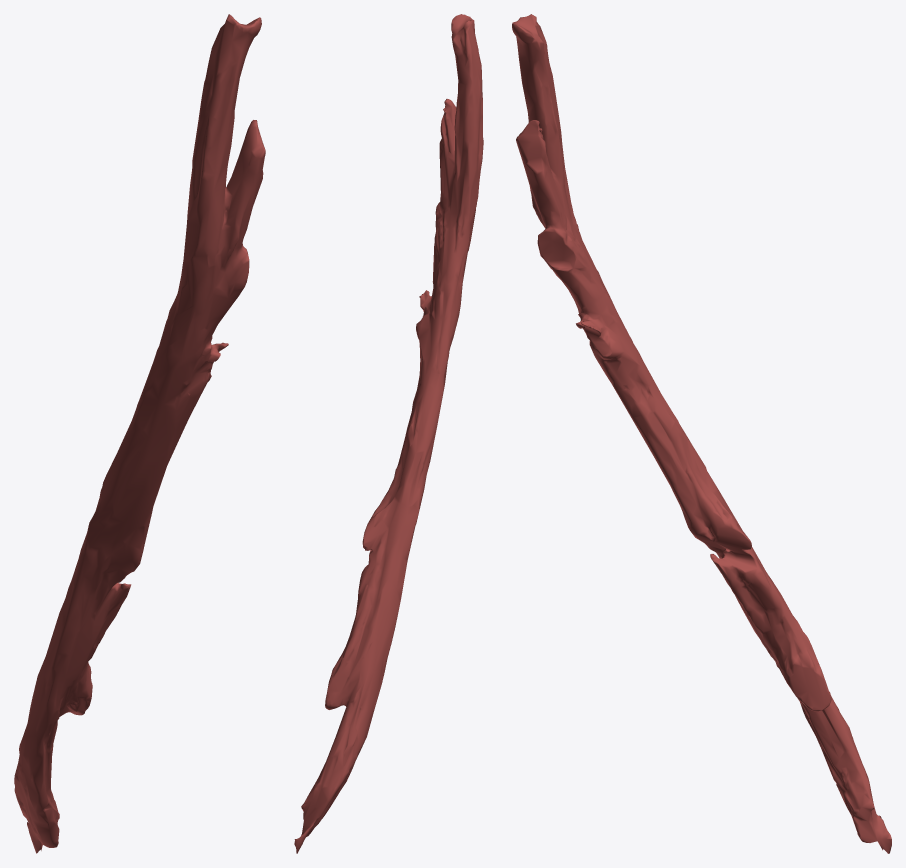
The model's file is FMA22781.glb.
3 renders of one model, left to right at view 1: azimuth 30°, elevation 25°; view 2: azimuth 150°, elevation 25°; view 3: azimuth 270°, elevation 25°, orthographic. The views are drawn at different scales.
Parts seen in each view (by area): view 1: FMA22781; view 2: FMA22781; view 3: FMA22781.
Boxes of the visible parts, left/top/right/bottom form: FMA22781: left=14, top=14, right=265, bottom=853; FMA22781: left=294, top=14, right=483, bottom=853; FMA22781: left=512, top=14, right=891, bottom=853.
Size of the model in its own units: 0.00777 by 0.1024 by 0.0424.
